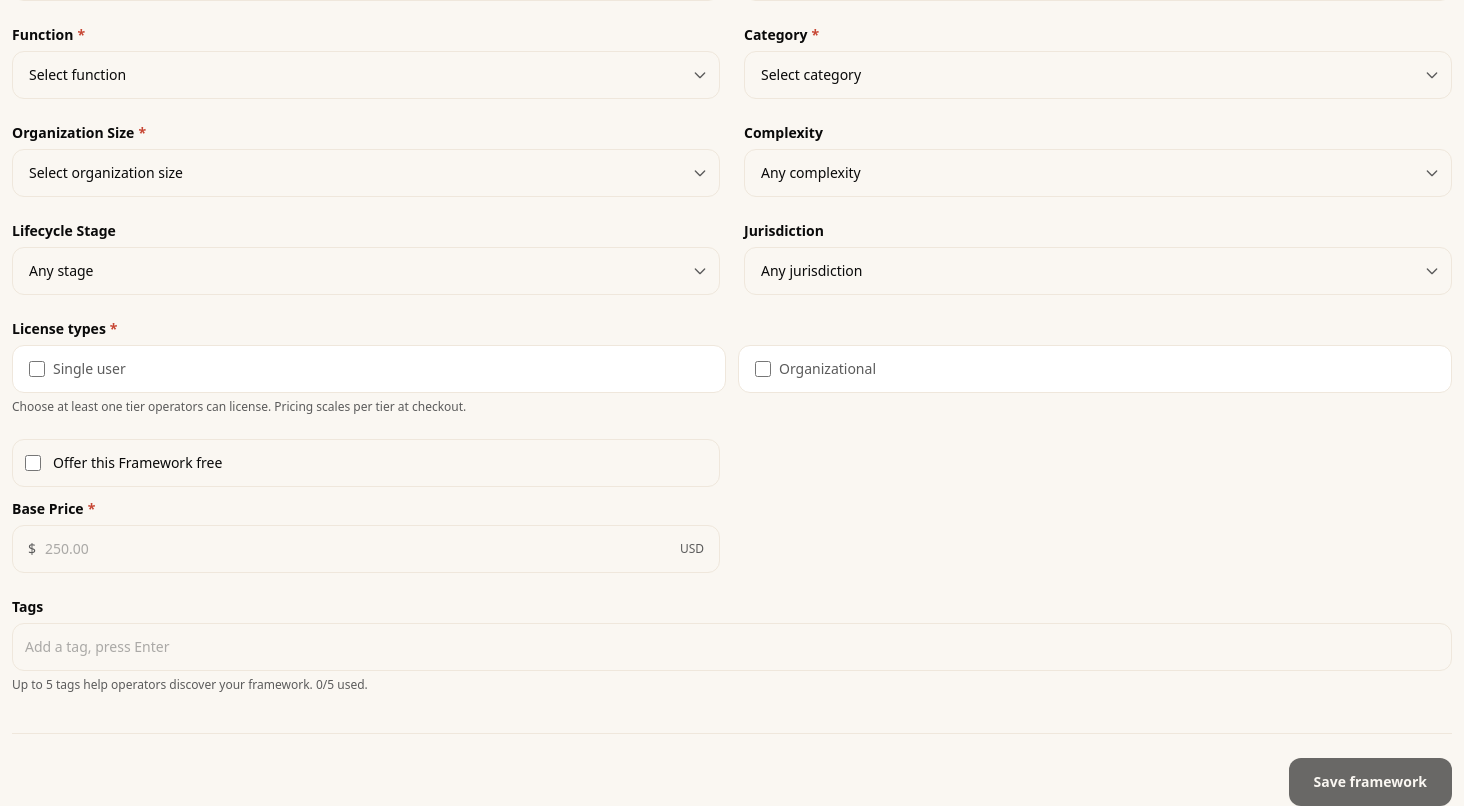
Test: FrameworkForm › constrains the price input to a two-decimal currency amount
The width and height of the screenshot is (1464, 806).
(page scrolled)
Type "12a.9999" into the field labelled "Base Price* $ USD".
click(366, 549); type("12a.9999")  # box [12,525,720,573]
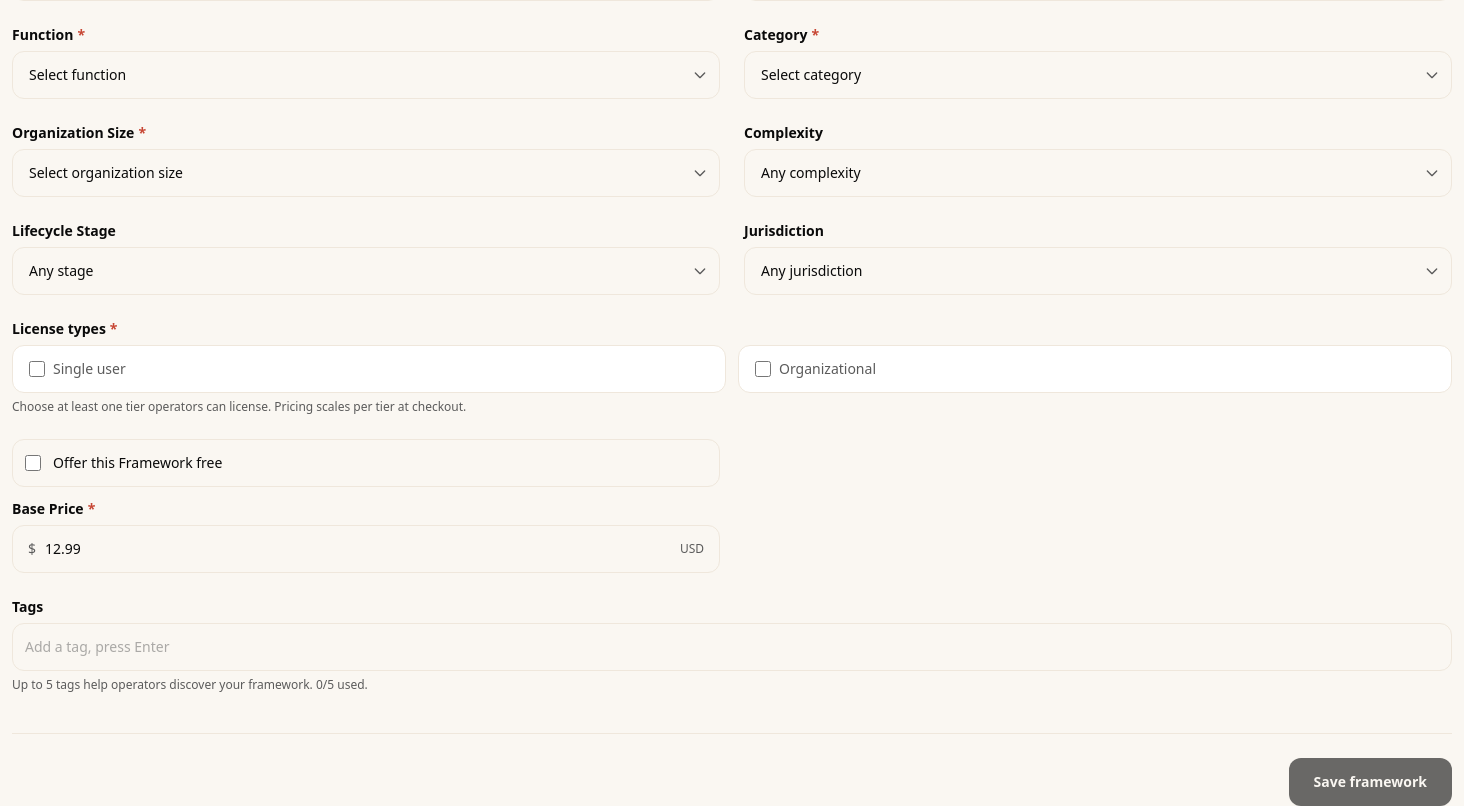
Check: the field labelled "Base Price* $ USD" holds "12.99", box [12,525,720,573]
